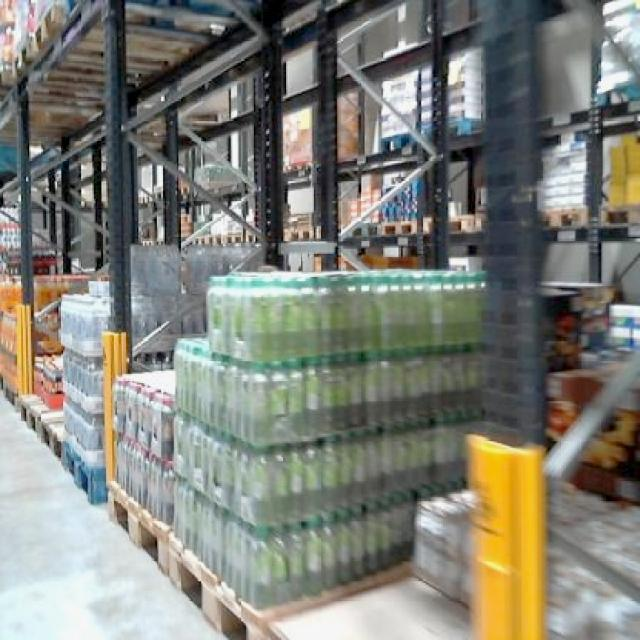pallets: (172, 269, 482, 605), (58, 292, 106, 500)
